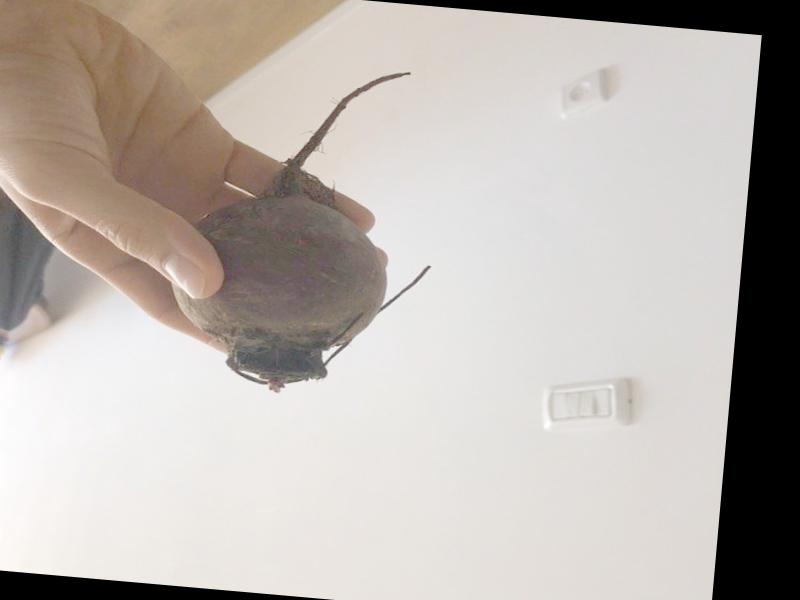Beet: (162, 52, 450, 404)
